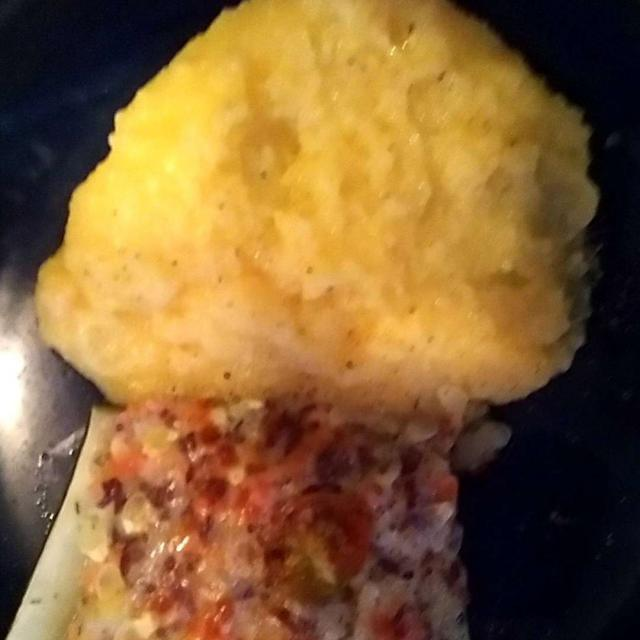polenta: (47, 5, 596, 416)
